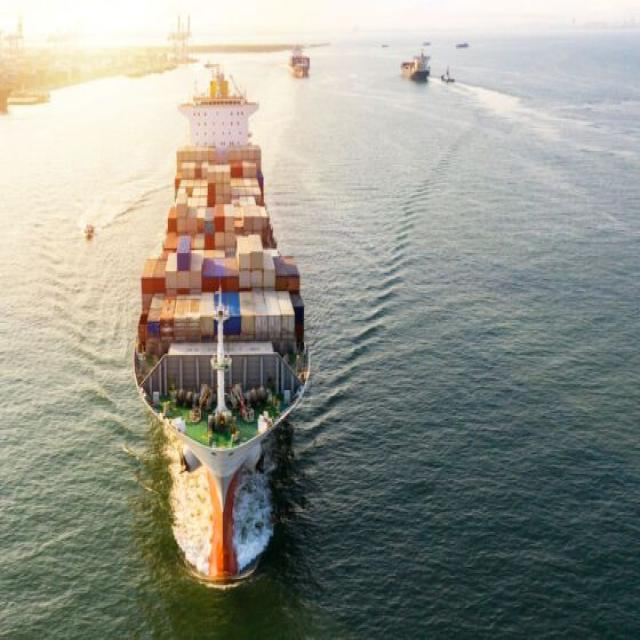boat: (132, 56, 317, 616)
